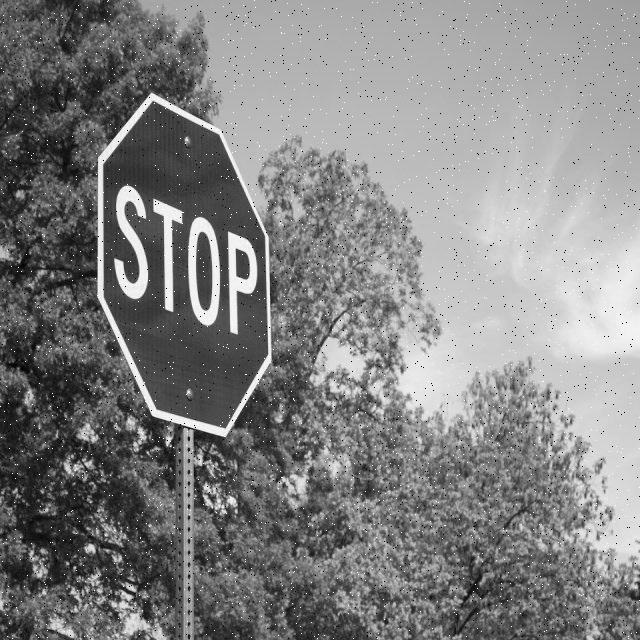stop: (96, 97, 276, 422)
